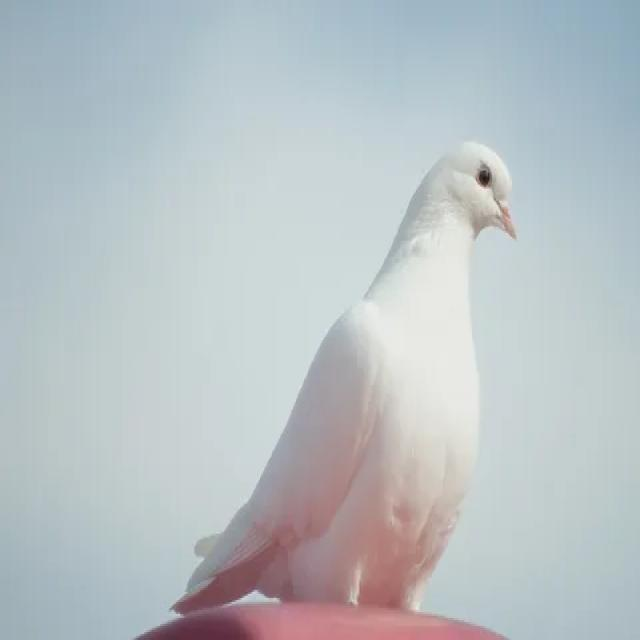pigeon: (179, 124, 521, 622)
